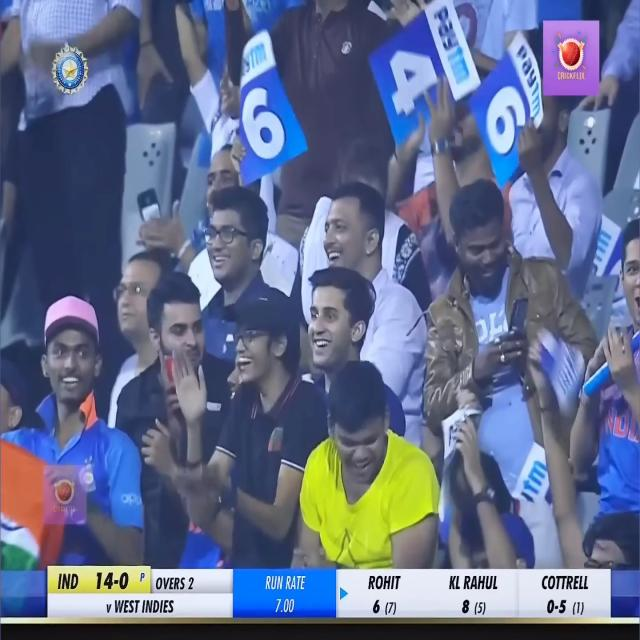fully_visible: (426, 0, 482, 99), (512, 22, 546, 136), (508, 524, 516, 530)
partially_visible: (583, 203, 621, 295), (514, 436, 552, 516), (236, 39, 274, 98)
